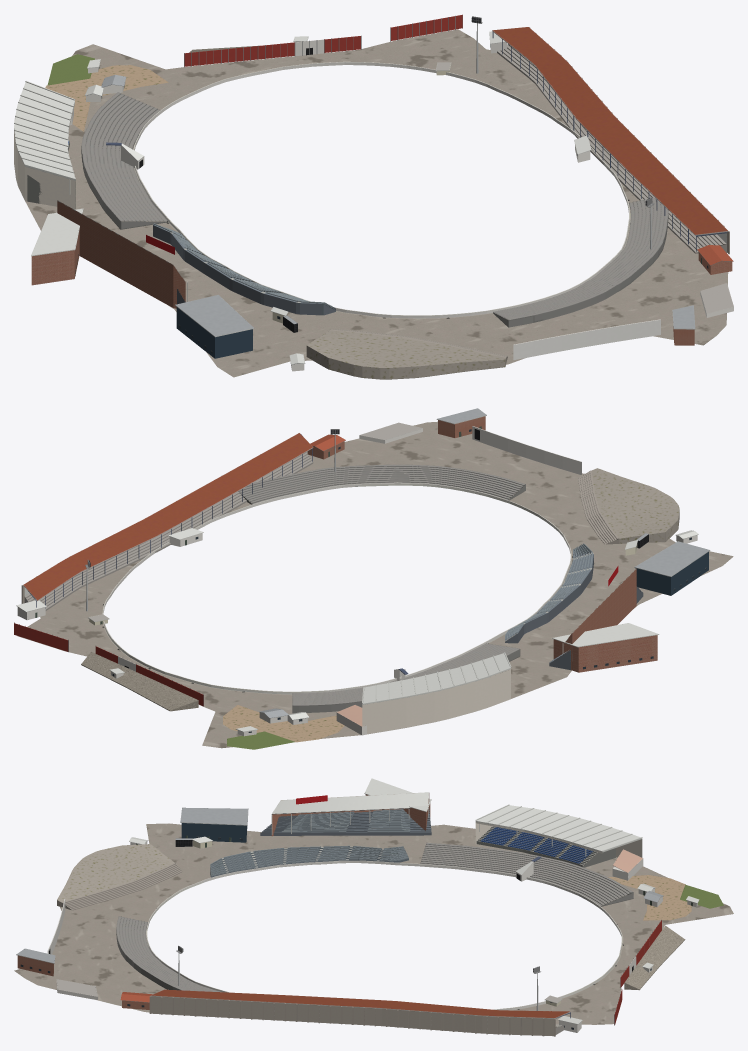
Rendered from whitten_exterior_1986.glb.
The picture shows the model from 3 angles, top to bottom: view 1: azimuth 30°, elevation 25°; view 2: azimuth 150°, elevation 25°; view 3: azimuth 270°, elevation 25°; orthographic projection. The views are drawn at different scales.
Visible parts, largest first — view 1: apron, ejs_stand, south_bank, rings_nw, ejw_stand, rings_se, main_stand, boundary_fence, old_stand, west_seats, apron_dirt, main_stand_end_block (+5 smaller); view 2: apron, ejs_stand, ejw_stand, south_bank, rings_se, main_stand_end_block, boundary_fence, apron_dirt, old_stand, rings_nw, west_seats, main_stand (+7 smaller); view 3: apron, ejs_stand, ejw_stand, main_stand, south_bank, rings_nw, west_seats, rings_se, boundary_fence, apron_dirt, old_stand, north_terrace (+5 smaller).
Boxes of the visible parts, x1,y1,x2,y2 form: apron: [25, 29, 728, 377]; ejs_stand: [492, 27, 729, 254]; south_bank: [306, 329, 507, 379]; rings_nw: [81, 92, 167, 229]; ejw_stand: [14, 81, 75, 209]; rings_se: [493, 197, 668, 327]; main_stand: [57, 200, 187, 308]; boundary_fence: [133, 61, 630, 318]; old_stand: [175, 295, 254, 358]; west_seats: [153, 223, 335, 315]; apron_dirt: [45, 54, 168, 131]; main_stand_end_block: [31, 208, 83, 285]; apron: [17, 421, 733, 748]; ejs_stand: [21, 433, 313, 610]; ejw_stand: [362, 652, 511, 734]; south_bank: [578, 468, 679, 544]; rings_se: [238, 464, 525, 504]; main_stand_end_block: [552, 623, 659, 672]; boundary_fence: [102, 482, 572, 694]; apron_dirt: [223, 705, 344, 749]; old_stand: [634, 541, 710, 595]; rings_nw: [292, 643, 520, 713]; west_seats: [505, 543, 593, 643]; main_stand: [549, 568, 643, 670]; apron: [14, 823, 733, 1027]; ejs_stand: [149, 989, 570, 1036]; ejw_stand: [475, 804, 642, 867]; main_stand: [260, 792, 431, 836]; south_bank: [57, 844, 182, 910]; rings_nw: [420, 842, 633, 906]; west_seats: [210, 845, 408, 877]; rings_se: [116, 916, 221, 992]; boundary_fence: [146, 860, 623, 1010]; apron_dirt: [608, 875, 723, 920]; old_stand: [180, 807, 248, 842]; north_terrace: [624, 925, 685, 990].
Size of the model in its own units: 223 by 19.7 by 289.
Materials: 33 (33 with a texture image).
